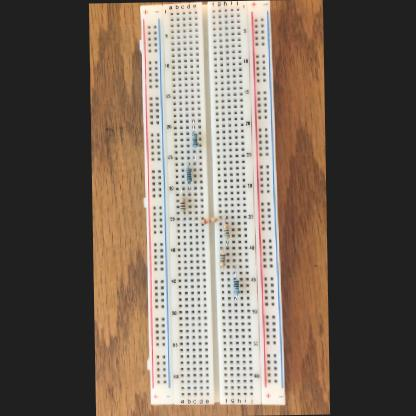breadboard: (137, 0, 284, 406)
resistor: (200, 216, 216, 222), (219, 251, 225, 265), (233, 278, 238, 293), (223, 222, 228, 237), (186, 166, 191, 180), (192, 131, 196, 145), (180, 196, 184, 210)
wire: (193, 146, 195, 162), (192, 217, 200, 221), (233, 263, 235, 278), (192, 119, 194, 132), (233, 294, 236, 301), (224, 237, 226, 246), (180, 186, 182, 194), (181, 210, 183, 218), (219, 246, 222, 250), (186, 161, 188, 166), (223, 216, 225, 221), (216, 216, 220, 218), (187, 181, 188, 188), (220, 266, 222, 269)
